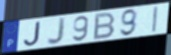9: (119, 8, 139, 37), (72, 15, 90, 43)
B: (92, 11, 117, 41)
I: (151, 5, 160, 34)
J: (46, 16, 68, 46), (23, 21, 42, 47)
